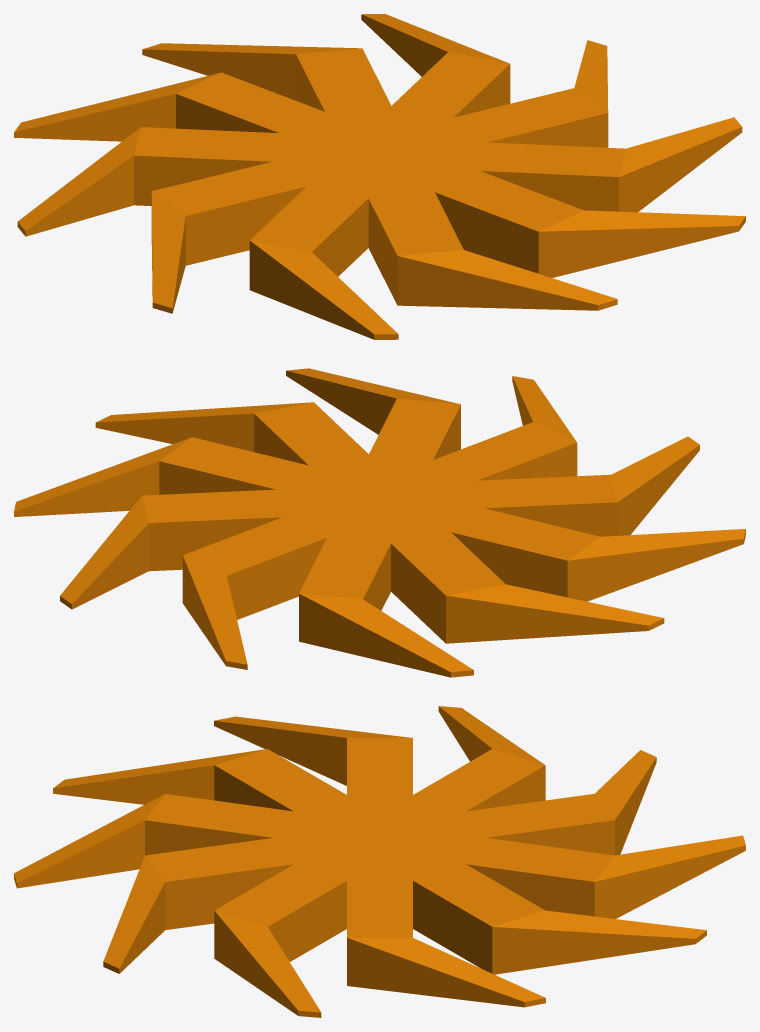
File: Enemy.fbx
The picture shows the model from 3 angles, top to bottom: view 1: azimuth 30°, elevation 25°; view 2: azimuth 150°, elevation 25°; view 3: azimuth 270°, elevation 25°; orthographic projection. The views are drawn at different scales.
Visible parts, largest first — view 1: Circle; view 2: Circle; view 3: Circle.
Part boxes in pixels (x1=…): Circle: x1=14, y1=14, x2=745, y2=339; Circle: x1=14, y1=368, x2=745, y2=677; Circle: x1=14, y1=706, x2=745, y2=1017.
Size of the model in its own units: 1363 by 100 by 1375.
